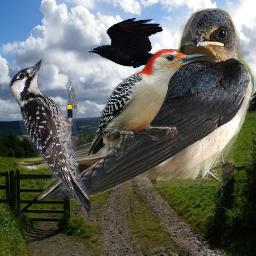Crow: (87, 18, 184, 72)
Swallow: (14, 8, 254, 200)
Woodpecker: (9, 58, 92, 217), (86, 49, 208, 157)
